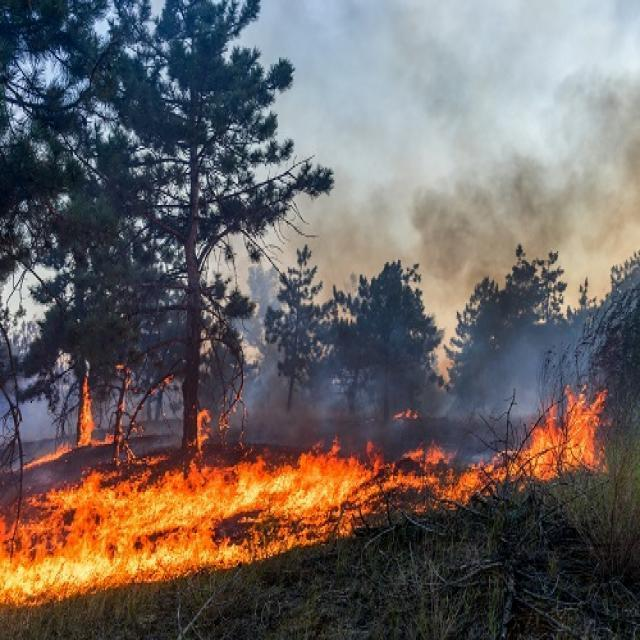tree: (0, 0, 336, 448), (330, 254, 438, 422), (260, 244, 336, 408)
